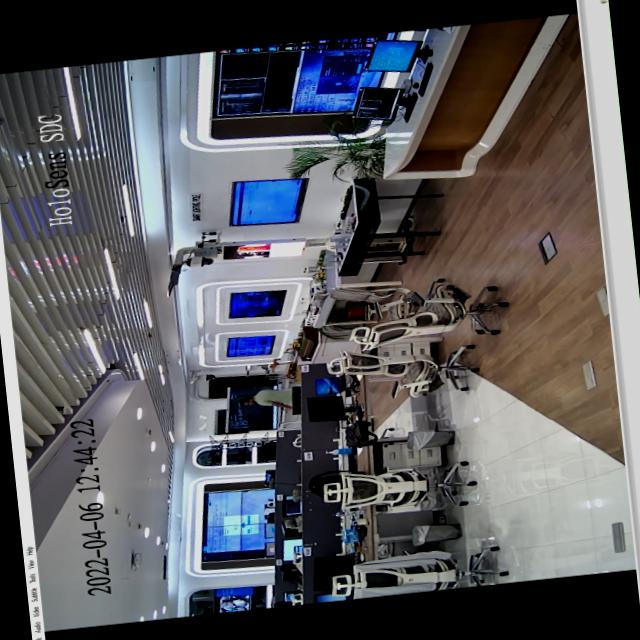long weapon: (226, 389, 267, 399)
